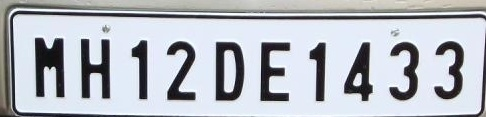character: (32, 33, 67, 99), (259, 37, 293, 104), (79, 34, 113, 100), (211, 36, 245, 101), (163, 39, 198, 102), (341, 40, 376, 102), (431, 39, 466, 101), (387, 40, 421, 100), (306, 39, 328, 104), (130, 37, 151, 101)
